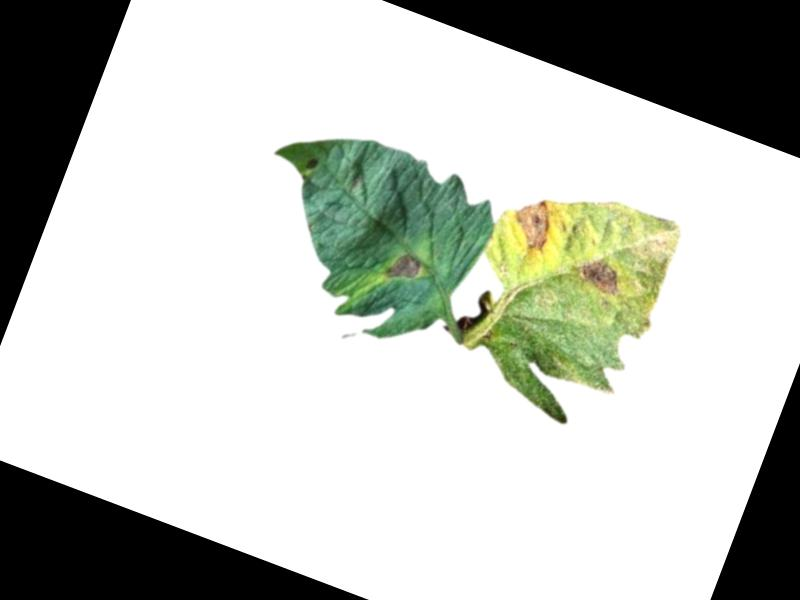Early_blight: (503, 190, 559, 254), (570, 251, 627, 298), (383, 247, 424, 284), (301, 152, 320, 170)
